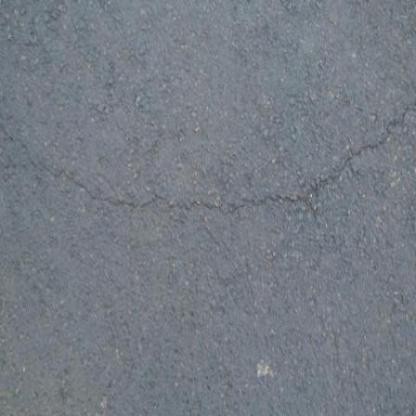Cracks: (1, 93, 416, 231)
